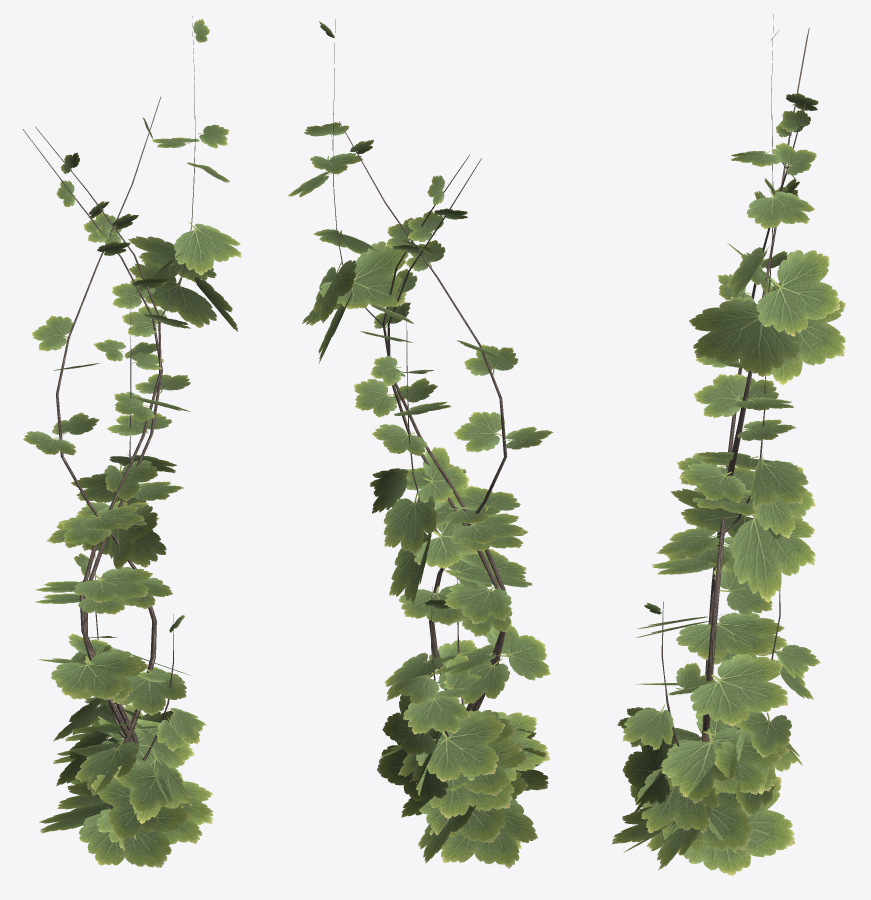
The model's file is Climbing03.fbx.
3 views of the same model, side by side, from view 1: azimuth 30°, elevation 25°; view 2: azimuth 150°, elevation 25°; view 3: azimuth 270°, elevation 25° (orthographic). The views are drawn at different scales.
Visible parts, largest first — view 1: climbing03; view 2: climbing03; view 3: climbing03.
Boxes of the visible parts, x1,y1,x2,y2 form: climbing03: (22, 16, 241, 867); climbing03: (288, 19, 553, 868); climbing03: (612, 14, 845, 875).
Size of the model in its own units: 340 by 1151 by 304.
